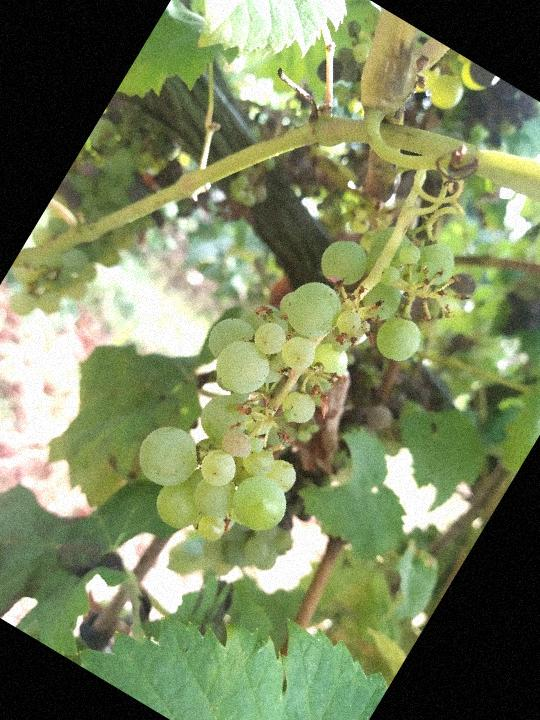grape: (108, 159, 476, 594)
